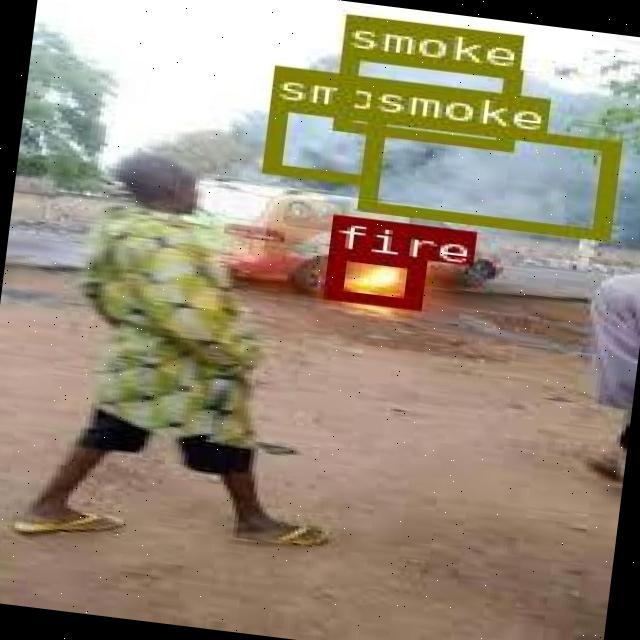fire: (321, 246, 421, 308)
smoke: (355, 110, 615, 237), (329, 46, 518, 148), (261, 98, 383, 184)
